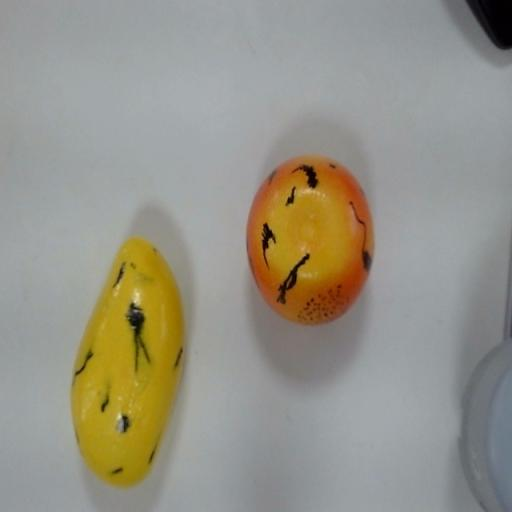Defective: (69, 227, 189, 512), (239, 147, 379, 344)
